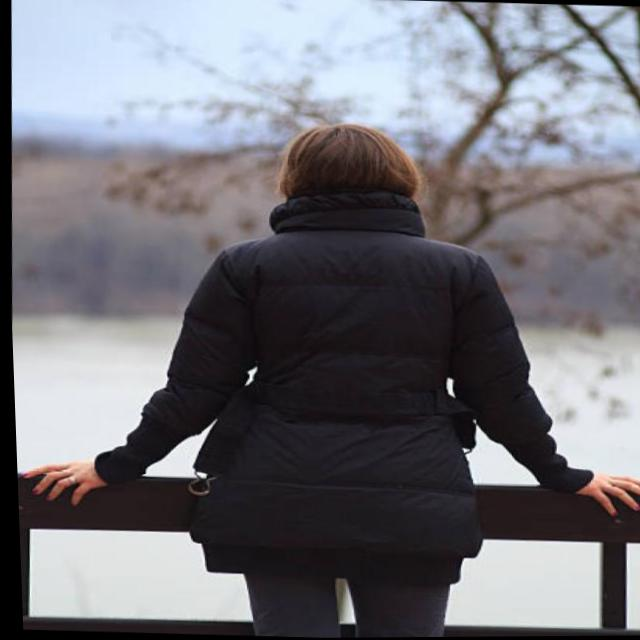no helmet: (268, 119, 422, 200)
